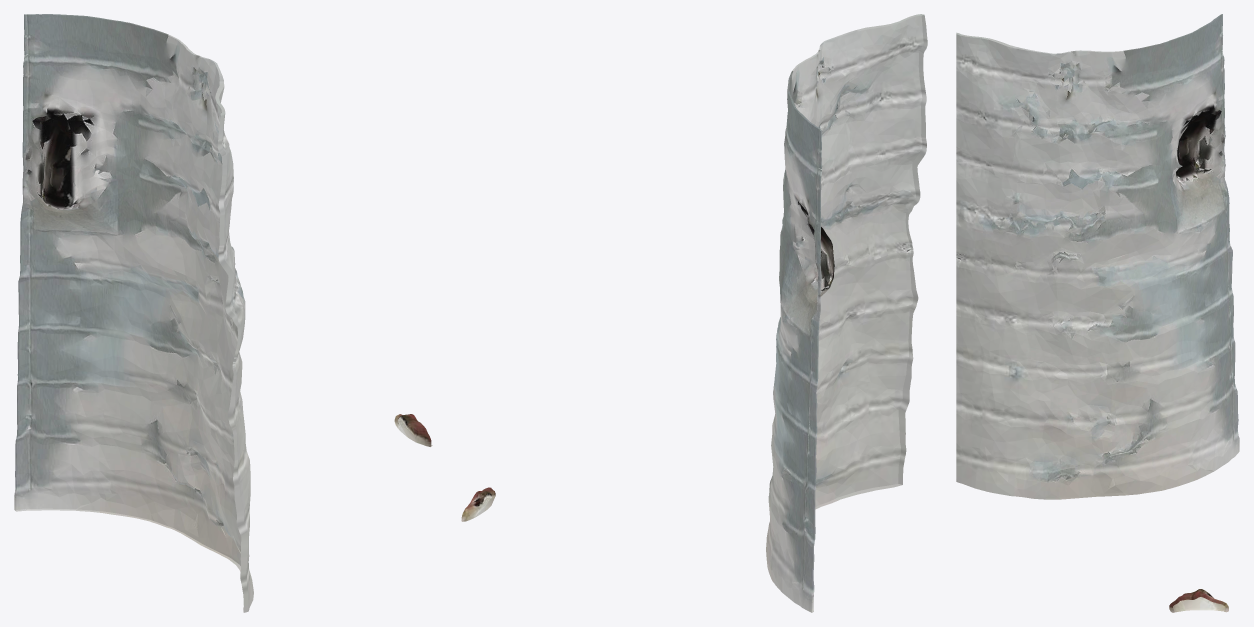
3 renders of one model, left to right at view 1: azimuth 30°, elevation 25°; view 2: azimuth 150°, elevation 25°; view 3: azimuth 270°, elevation 25°, orthographic. The views are drawn at different scales.
Visible parts, largest first — view 1: node_23; view 2: node_23; view 3: node_23.
Boxes of the visible parts, box(x1,y1,x2,y2) form: node_23: box(14, 14, 432, 612); node_23: box(461, 14, 927, 612); node_23: box(956, 14, 1239, 612).
Bounding box in the file's own units: 4.78 × 6.04 × 3.55.
Materials: 1 (1 with a texture image).
